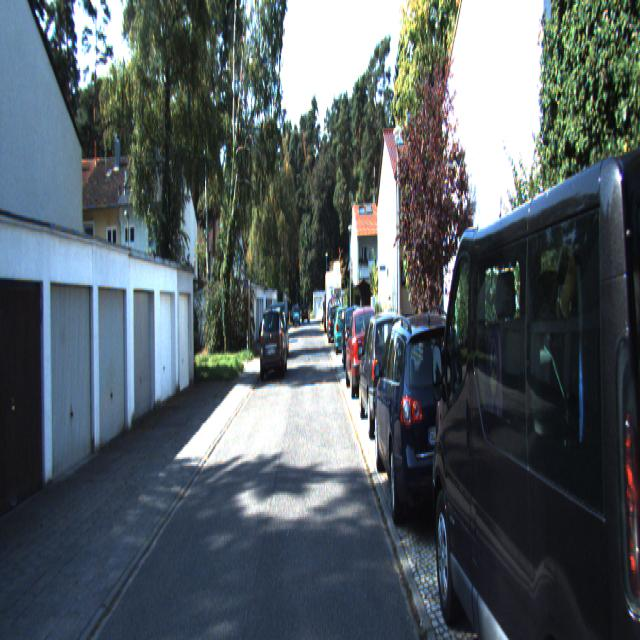Car: (426, 49, 640, 638), (372, 310, 476, 542), (358, 309, 412, 442), (345, 303, 381, 400), (258, 305, 287, 378), (325, 270, 342, 338), (334, 304, 352, 356)
